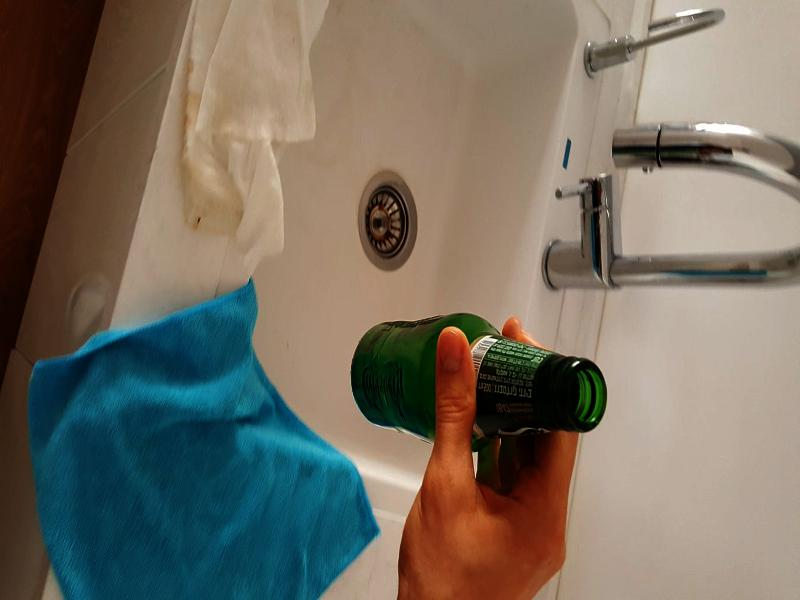Beer: (349, 311, 606, 448)
